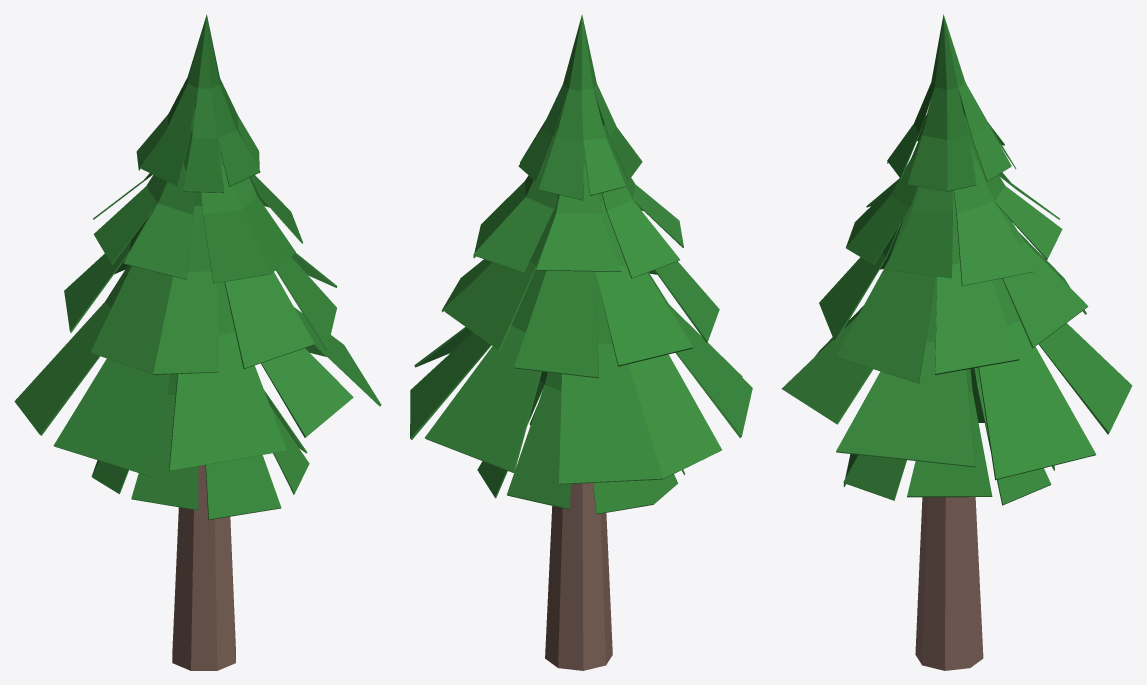
File: Tree_074.glb
The picture shows the model from 3 angles, left to right: view 1: azimuth 30°, elevation 25°; view 2: azimuth 150°, elevation 25°; view 3: azimuth 270°, elevation 25°; orthographic projection.
Visible parts, largest first — view 1: Tree_074; view 2: Tree_074; view 3: Tree_074.
Boxes of the visible parts, x1,y1,x2,y2 form: Tree_074: (14,14,381,670); Tree_074: (410,14,752,670); Tree_074: (781,14,1132,670).
Size of the model in its own units: 3.19 by 6.34 by 3.14.
Materials: 1 (1 with a texture image).
